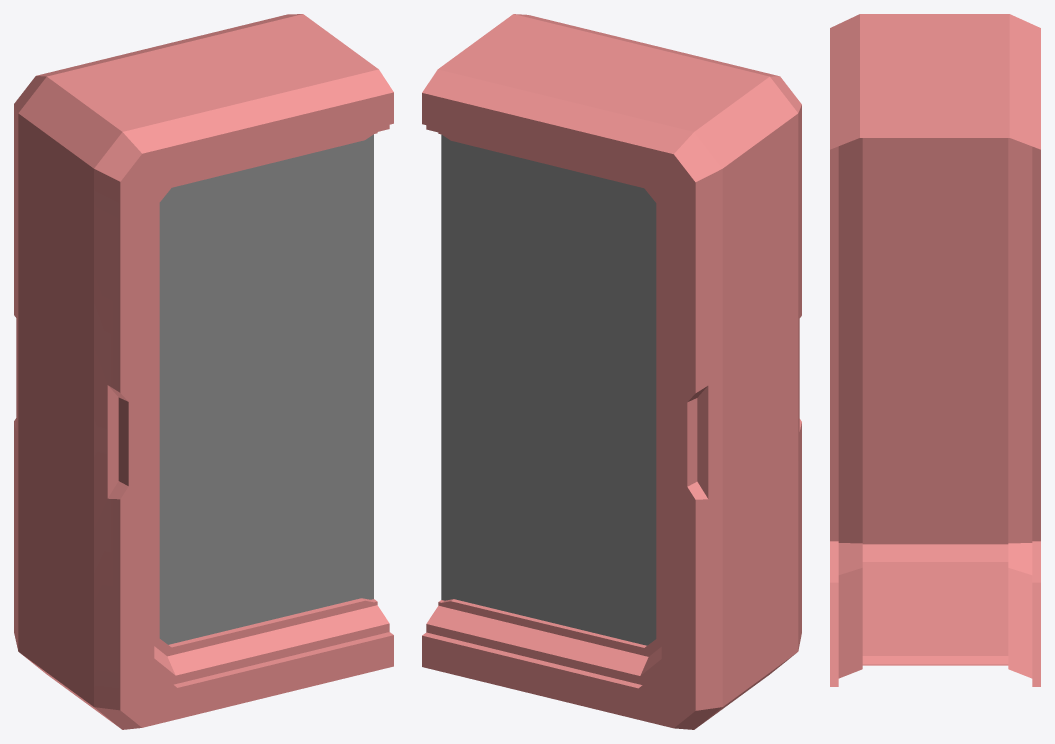
Rendered from S_Envi_Common_Wall_06c.gltf.
3 renders of one model, left to right at view 1: azimuth 30°, elevation 25°; view 2: azimuth 150°, elevation 25°; view 3: azimuth 270°, elevation 25°, orthographic.
Visible parts, largest first — view 1: S_Envi_Common_Wall_06c; view 2: S_Envi_Common_Wall_06c; view 3: S_Envi_Common_Wall_06c.
Boxes of the visible parts, bbox=[...] form: S_Envi_Common_Wall_06c: bbox=[14, 14, 393, 729]; S_Envi_Common_Wall_06c: bbox=[422, 14, 801, 729]; S_Envi_Common_Wall_06c: bbox=[830, 14, 1040, 686].
Size of the model in its own units: 1 by 2.01 by 0.647.
